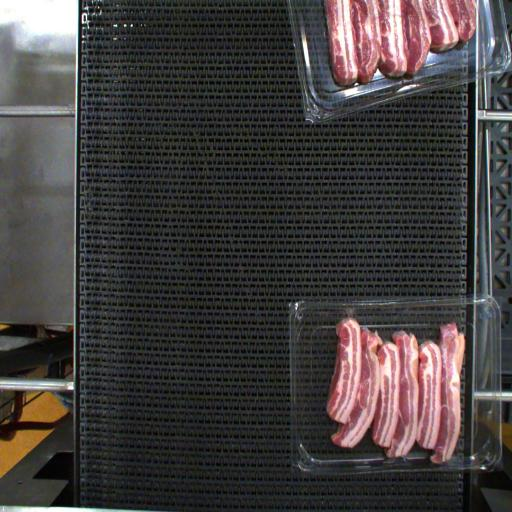packaging-error: (344, 306, 356, 320)
